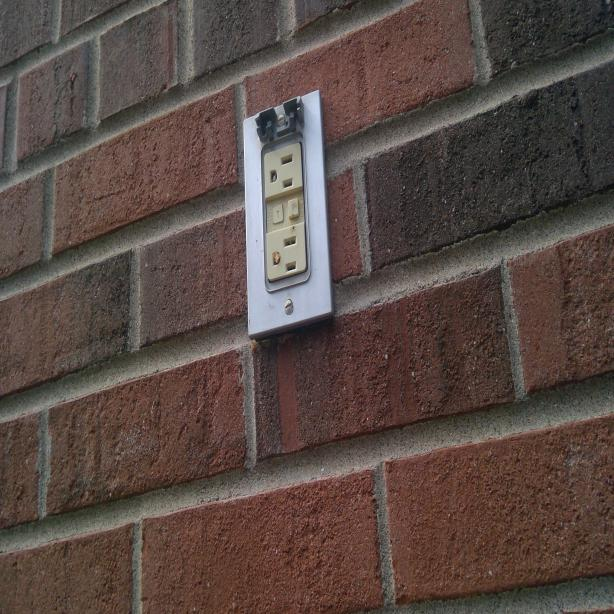typeb: (264, 147, 300, 196), (270, 230, 305, 280)
